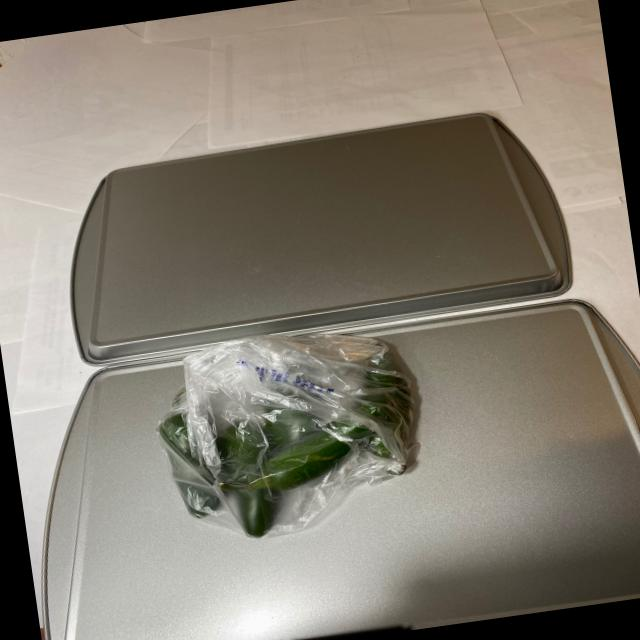chilli: (150, 326, 436, 552)
